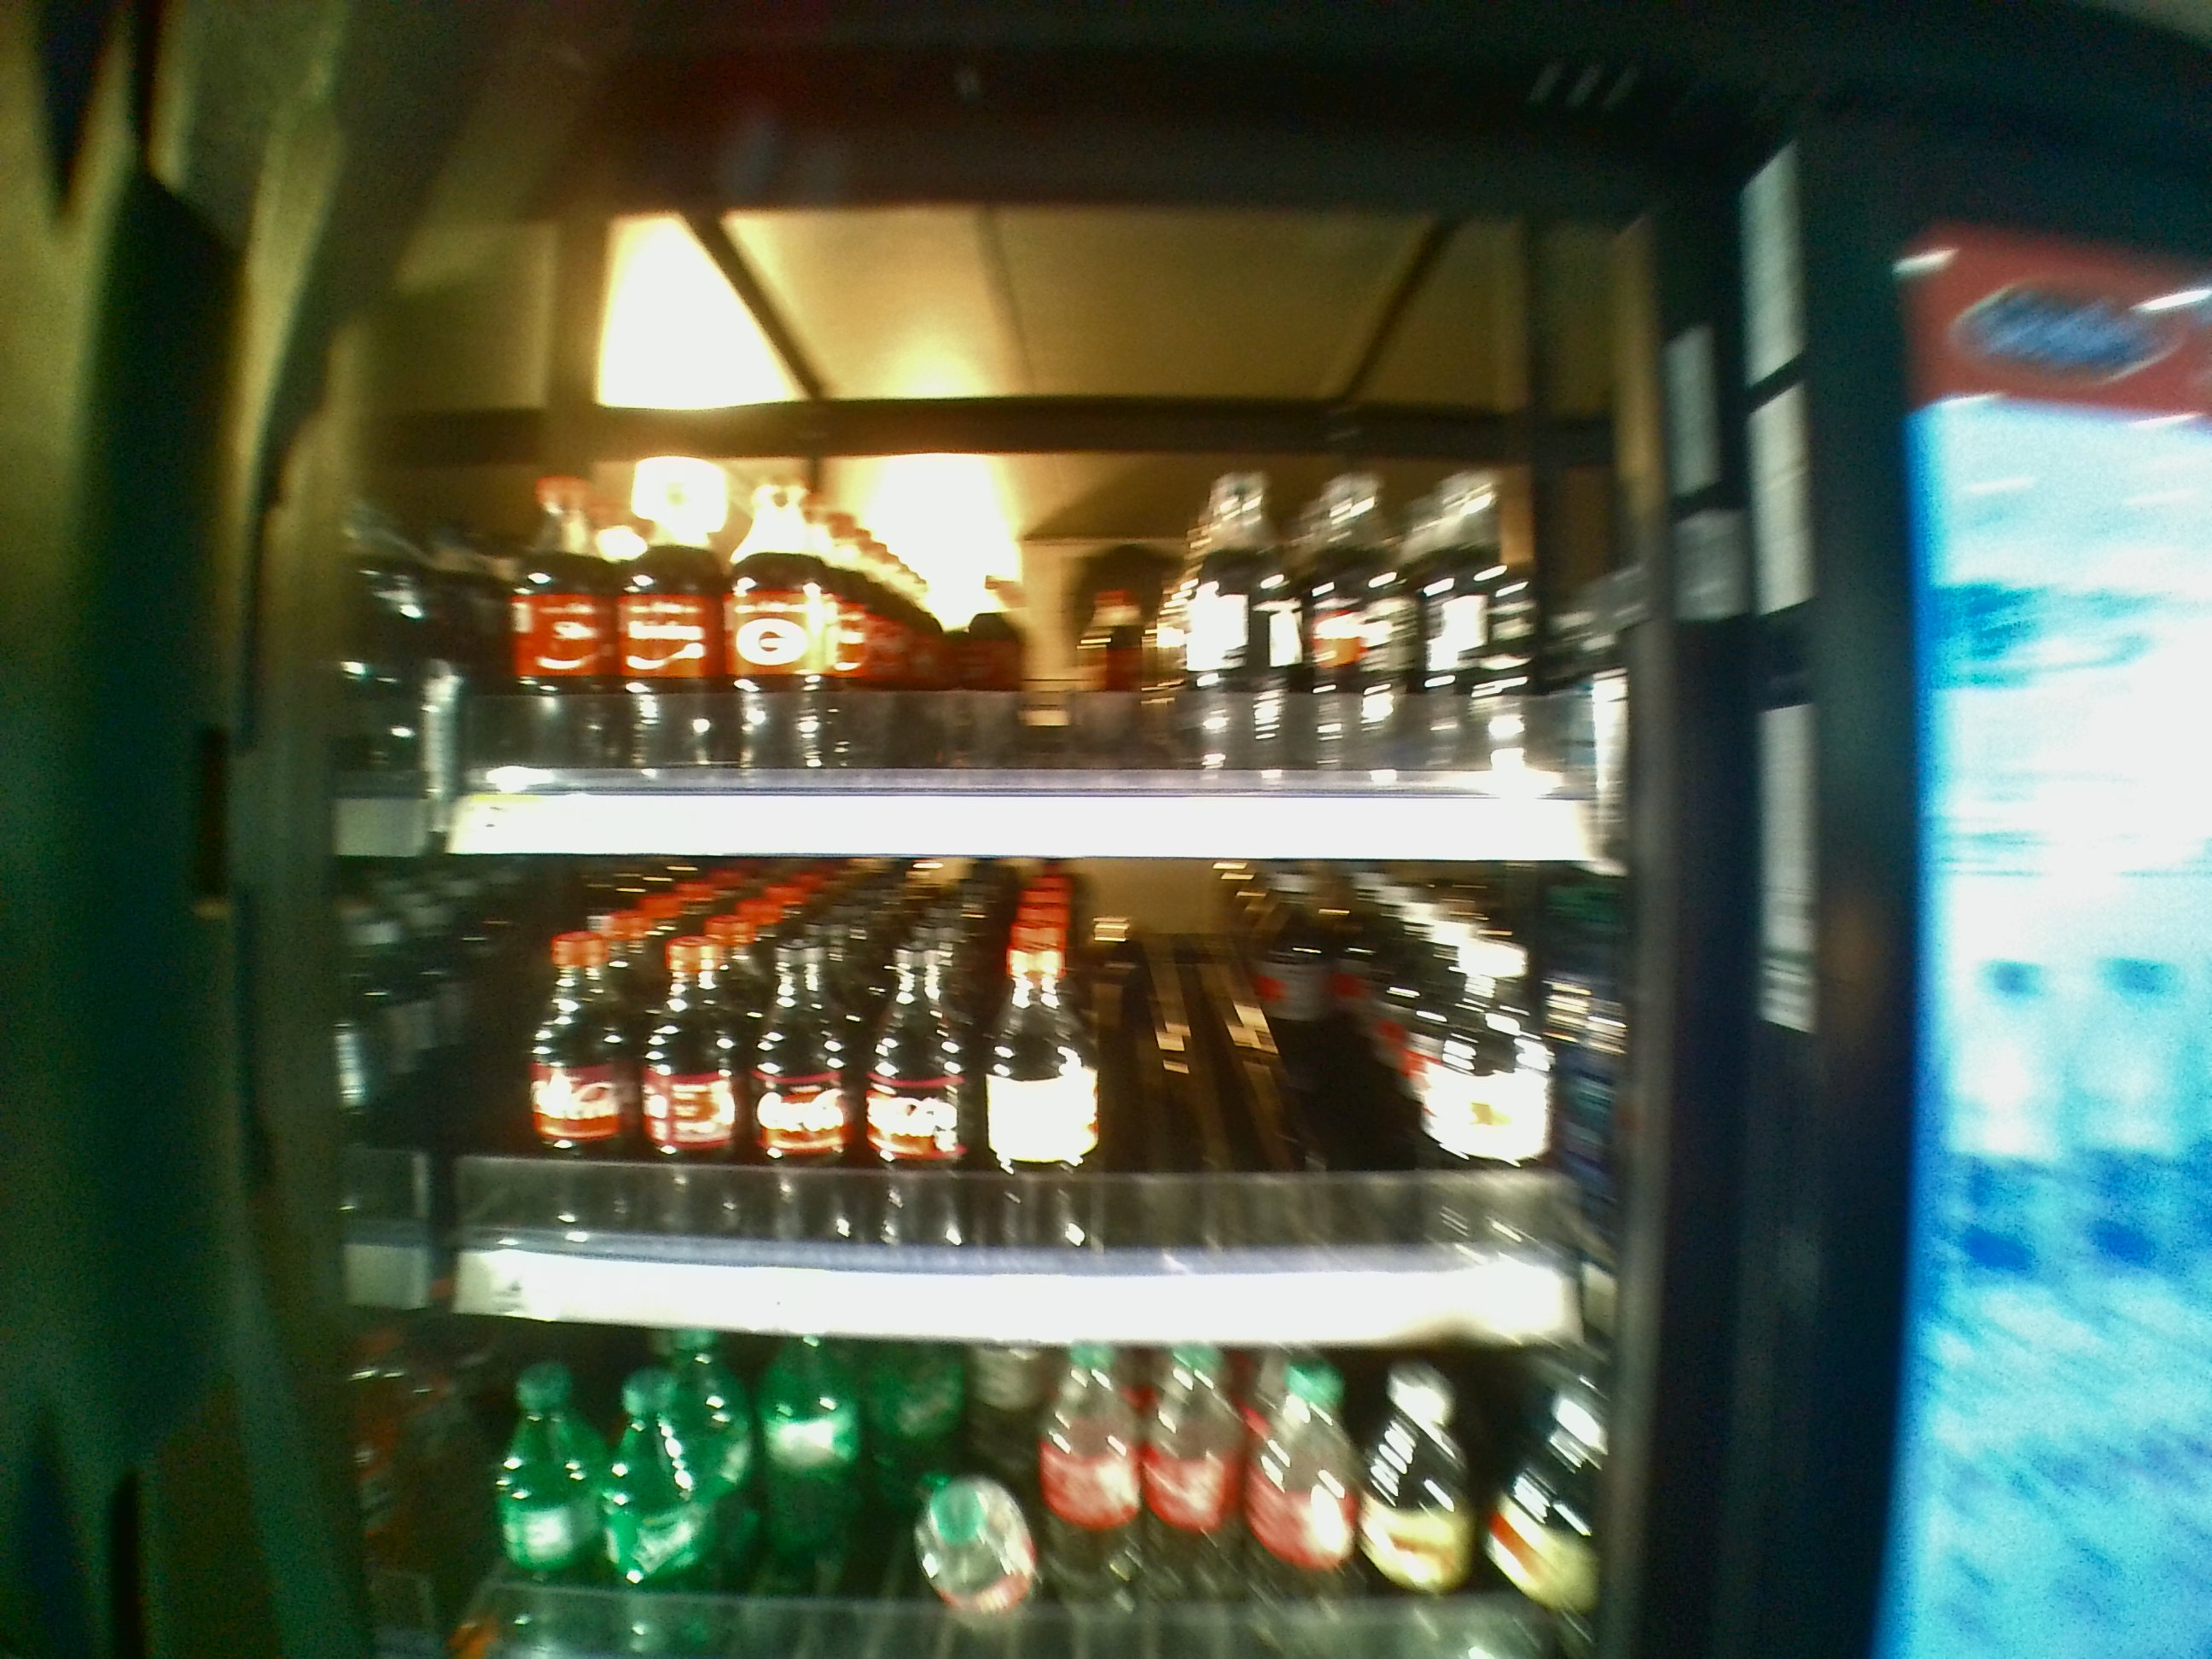Shelf: (395, 204, 1681, 857), (392, 857, 1684, 1354)
